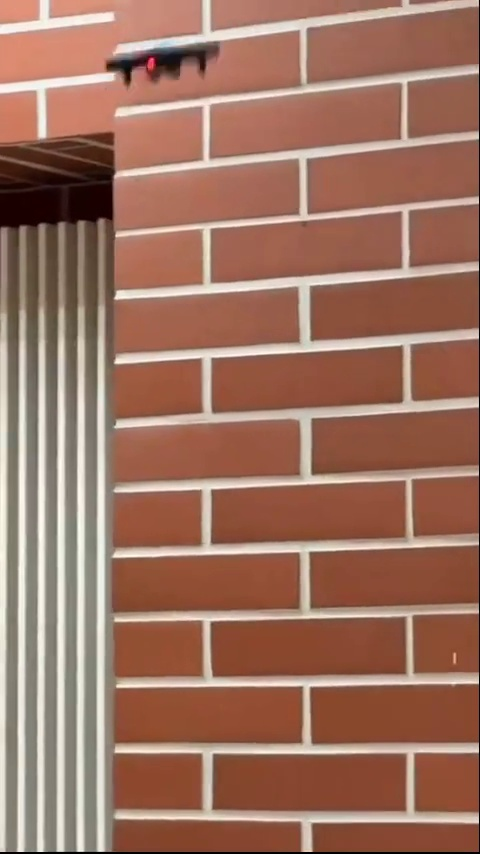drone: (104, 45, 227, 85)
